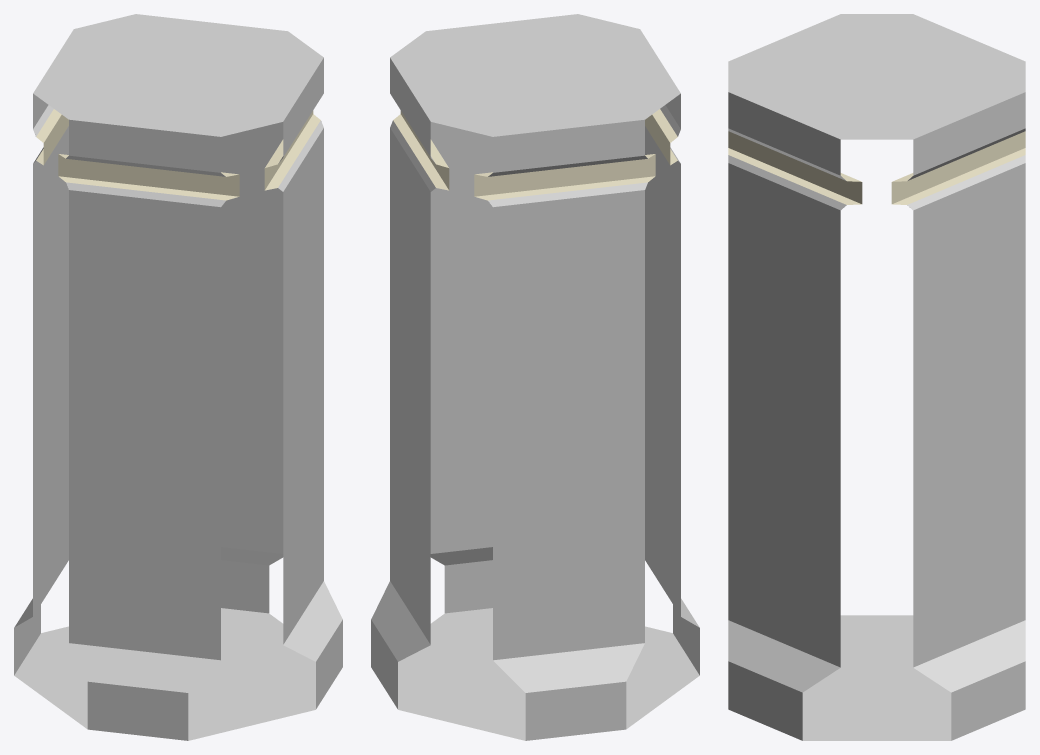
Rendered from wall-cross.fbx.
3 views of the same model, side by side, from view 1: azimuth 30°, elevation 25°; view 2: azimuth 150°, elevation 25°; view 3: azimuth 270°, elevation 25° (orthographic).
Visible parts, largest first — view 1: wall_cross; view 2: wall_cross; view 3: wall_cross.
Part boxes in pixels (x1,y1,x2,y2): wall_cross: [14, 14, 342, 740]; wall_cross: [371, 14, 699, 740]; wall_cross: [728, 14, 1025, 740].
Bounding box in the file's own units: 100 × 223 × 100.
